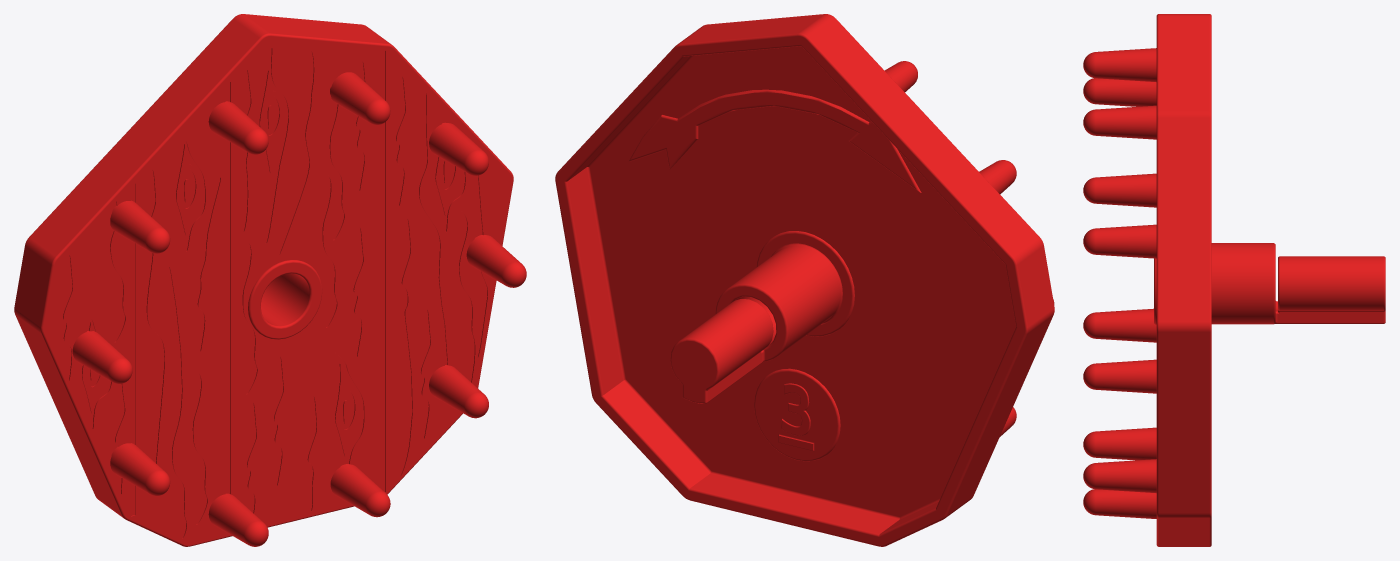
File: PART 3 GEAR WHEEL.fbx
3 views of the same model, side by side, from view 1: azimuth 30°, elevation 25°; view 2: azimuth 150°, elevation 25°; view 3: azimuth 270°, elevation 25° (orthographic). The views are drawn at different scales.
Visible parts, largest first — view 1: PART 3 GEAR WHEEL; view 2: PART 3 GEAR WHEEL; view 3: PART 3 GEAR WHEEL.
Boxes of the visible parts, x1,y1,x2,y2 form: PART 3 GEAR WHEEL: (14, 14, 526, 546); PART 3 GEAR WHEEL: (555, 14, 1054, 546); PART 3 GEAR WHEEL: (1083, 14, 1385, 546).
Size of the model in its own units: 6.1 by 6.08 by 3.49.
